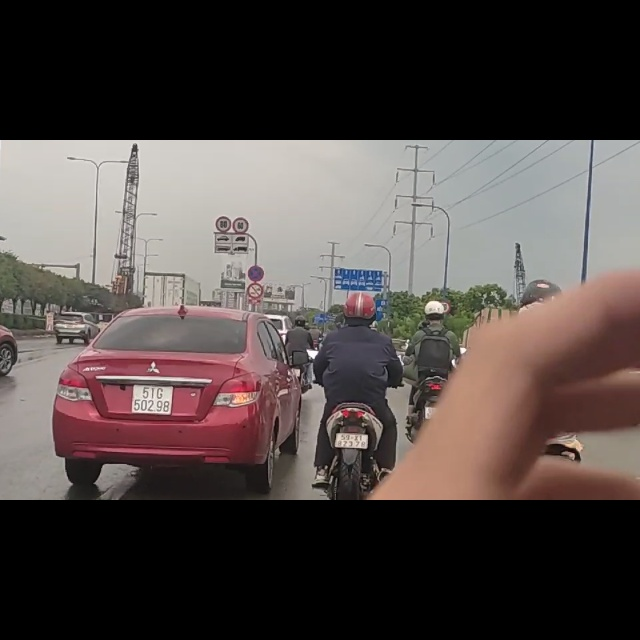bien_chi_dan: (247, 223, 264, 251)
